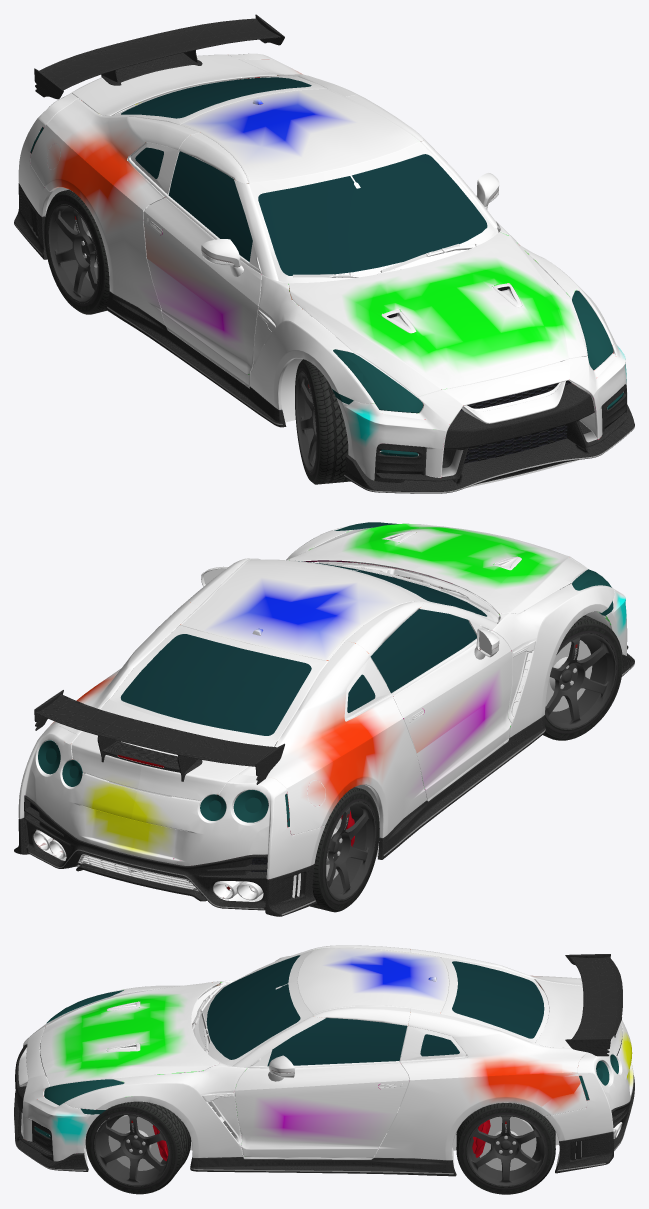
The model's file is Nissan GT-R Nismo.fbx.
The picture shows the model from 3 angles, top to bottom: view 1: azimuth 30°, elevation 25°; view 2: azimuth 150°, elevation 25°; view 3: azimuth 270°, elevation 25°; orthographic projection. The views are drawn at different scales.
Parts seen in each view (by area): view 1: object.012, object, object.014, object.001, wheel.002, wheel.001, object.022, object.016, object.017, object.015; view 2: object.012, object.014, object, object.001, wheel.001, wheel.002, object.022, object.017, object.015; view 3: object.012, object, object.014, object.001, wheel, wheel.003, object.022, object.017.
Boxes of the visible parts, x1=… form: object.012: x1=18, y1=53, x2=627, y2=480; object: x1=121, y1=77, x2=487, y2=275; object.014: x1=14, y1=14, x2=634, y2=493; object.001: x1=45, y1=75, x2=579, y2=487; wheel.002: x1=44, y1=189, x2=109, y2=314; wheel.001: x1=295, y1=359, x2=350, y2=484; object.022: x1=30, y1=127, x2=623, y2=456; object.016: x1=387, y1=286, x2=571, y2=463; object.017: x1=15, y1=190, x2=634, y2=493; object.015: x1=45, y1=187, x2=580, y2=422; object.012: x1=18, y1=523, x2=627, y2=879; object.014: x1=14, y1=583, x2=634, y2=916; object: x1=120, y1=561, x2=486, y2=735; object.001: x1=33, y1=531, x2=535, y2=901; wheel.001: x1=543, y1=615, x2=622, y2=740; wheel.002: x1=310, y1=787, x2=379, y2=912; object.022: x1=38, y1=522, x2=613, y2=826; object.017: x1=28, y1=645, x2=634, y2=915; object.015: x1=71, y1=538, x2=608, y2=867; object.012: x1=22, y1=945, x2=633, y2=1161; object: x1=206, y1=955, x2=544, y2=1066; object.014: x1=14, y1=954, x2=634, y2=1176; object.001: x1=18, y1=949, x2=622, y2=1159; wheel: x1=85, y1=1101, x2=191, y2=1194; wheel.003: x1=456, y1=1103, x2=555, y2=1194; object.022: x1=34, y1=990, x2=618, y2=1137; object.017: x1=14, y1=1070, x2=632, y2=1174.
Bounding box in the file's own units: 201 × 137 × 456.
